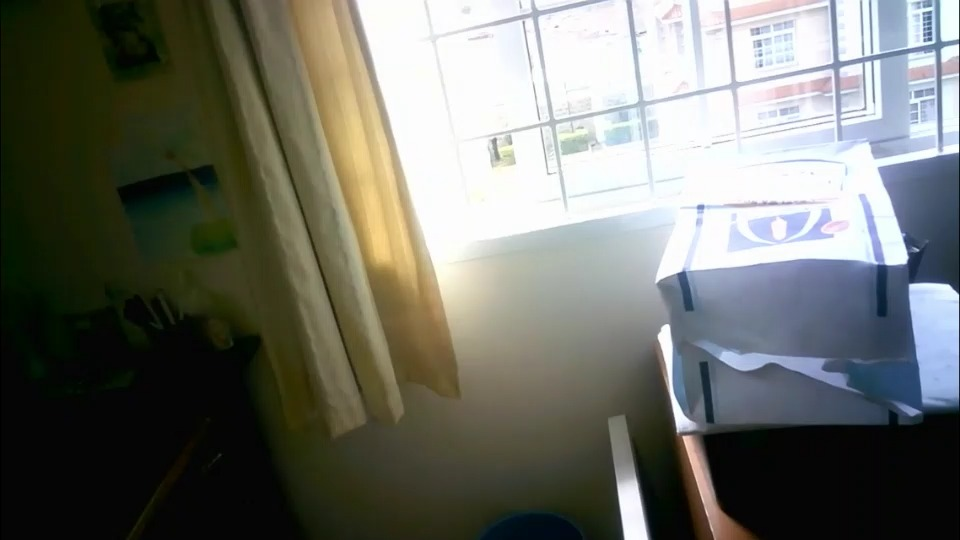wheat_flour_blue_label: (656, 141, 921, 430)
